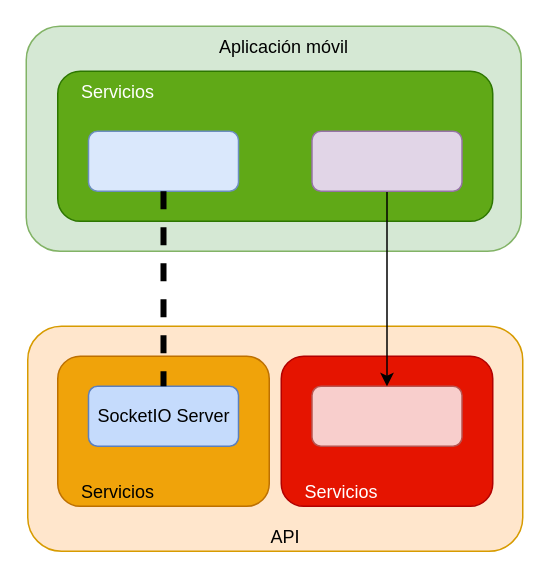
The diagram is 549 pixels wide and 578 high, and some of its shapes have lost their labels. Here are the shapes that lost their labels. From the top down, the centre of each, then its label:
At [162,160]: "SocketIO Client".
At [386,160]: "Retrofit 2".
At [386,415]: "Express".
